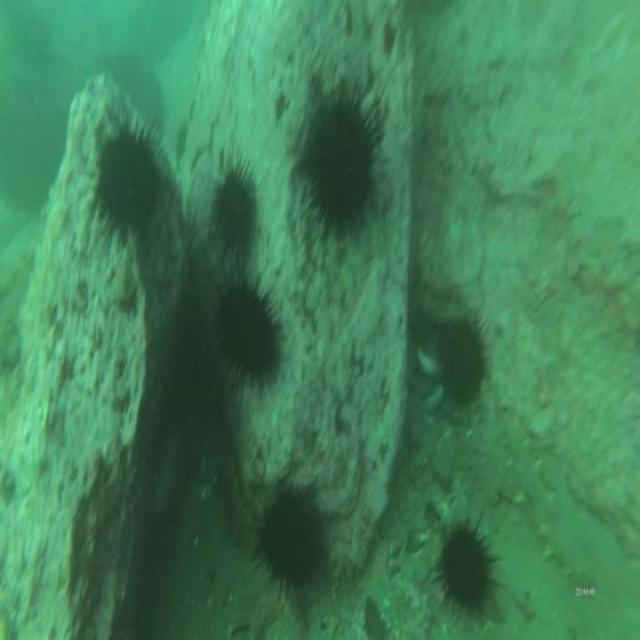echinus: (290, 82, 388, 251), (87, 110, 169, 247), (250, 476, 327, 600), (211, 266, 281, 395), (428, 512, 502, 626), (434, 305, 492, 417), (212, 157, 260, 266)
holothurian: (494, 412, 602, 599)
